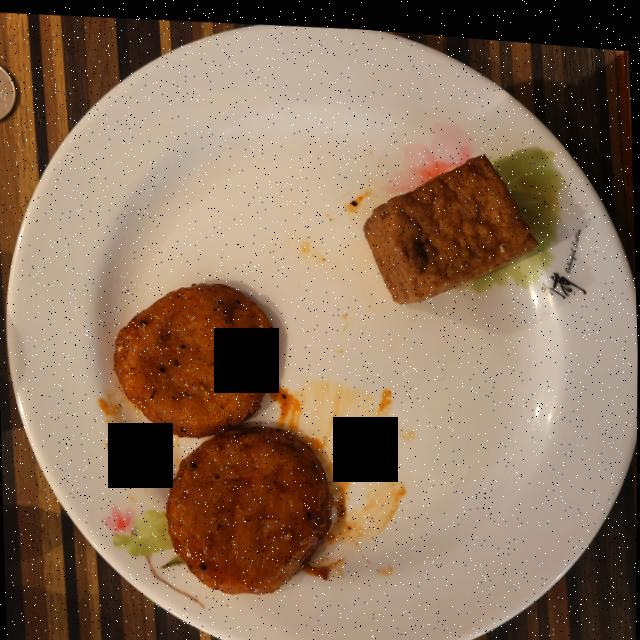coin: (0, 65, 16, 119)
egg tofu: (363, 146, 538, 296)
fish cake: (114, 278, 333, 589)
